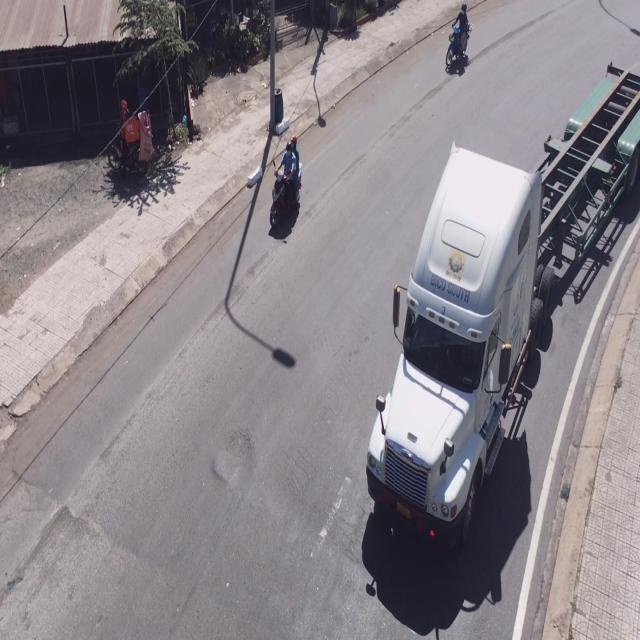motorbike: (270, 134, 300, 232), (443, 0, 469, 75)
truck: (365, 65, 640, 565)
